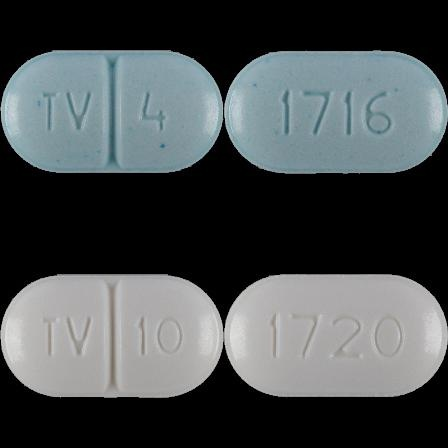0179-0192: (0, 0, 224, 224)
